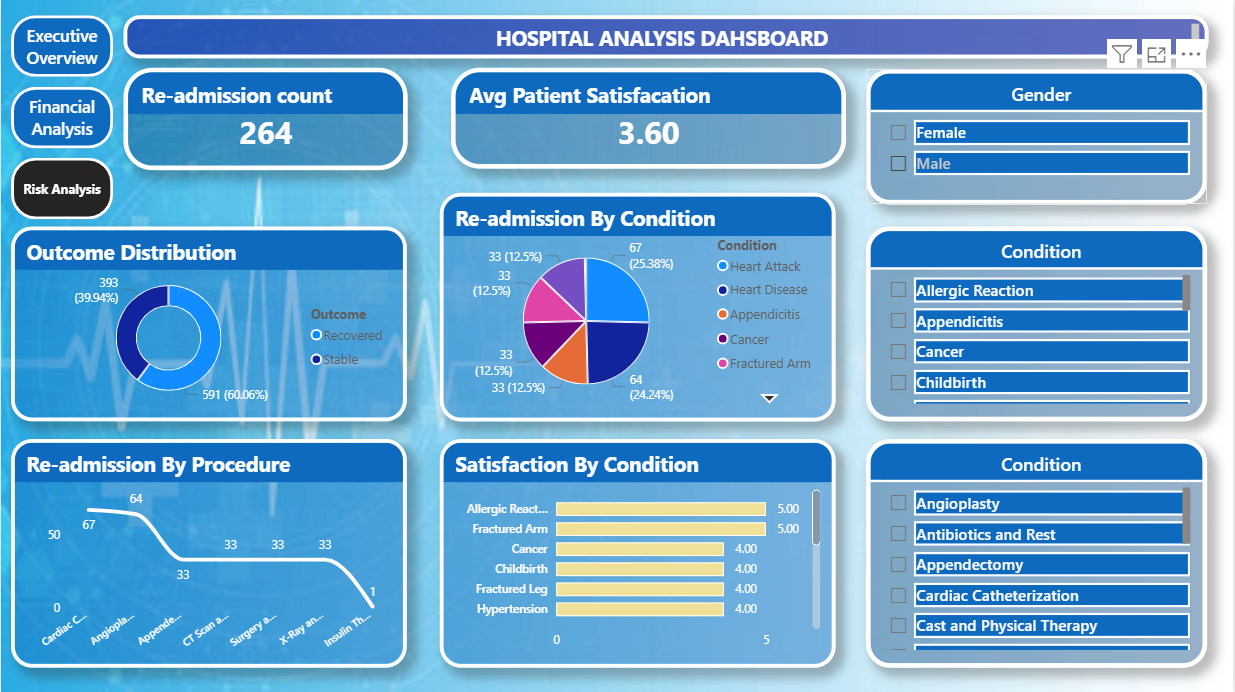

The page's visual inventory and layout, read from the dashboard file:
{"tool":"powerbi","page":{"name":"Risk Analysis ","canvas":[1280,720],"ordinal":2},"visuals":[{"type":"textbox","box":[126.7,16.9,1126.8,44.6],"z":0},{"type":"card","title":"Re-admission count","fields":{"Values":["hospital data analysis.Readmission Count"]},"box":[126.7,71.2,295.6,106.2],"z":1000},{"type":"card","title":"Avg Patient Satisfacation","fields":{"Values":["Avg(hospital data analysis.Satisfaction)"]},"box":[468,72,410.4,105.1],"z":2000},{"type":"barChart","title":"Satisfaction By Condition","fields":{"Category":["hospital data analysis.Condition"],"Y":["Avg(hospital data analysis.Satisfaction)"]},"box":[456,457.2,411.4,237.7],"z":3000},{"type":"pieChart","title":"Re-admission By Condition","fields":{"Category":["hospital data analysis.Condition"],"Y":["hospital data analysis.Readmission Count"]},"box":[456,201.5,411.4,237.7],"z":4000},{"type":"donutChart","title":"Outcome Distribution","fields":{"Y":["hospital data analysis.Total Patients"],"Category":["hospital data analysis.Outcome"]},"box":[10.9,236.5,411.4,202.7],"z":5000},{"type":"pageNavigator","box":[10.9,16.9,106.2,213.5],"z":6000},{"type":"lineChart","title":"Re-admission By Procedure","fields":{"Category":["hospital data analysis.Procedure"],"Y":["hospital data analysis.Readmission Count"]},"box":[10.9,457.2,411.4,237.7],"z":7000},{"type":"slicer","title":"Gender","fields":{"Values":["hospital data analysis.Gender"]},"box":[898.8,72.4,354.7,141.2],"z":8000},{"type":"slicer","title":"Condition","fields":{"Values":["hospital data analysis.Condition"]},"box":[898.8,236.5,354.7,202.7],"z":9000},{"type":"slicer","title":"Condition","fields":{"Values":["hospital data analysis.Procedure"]},"box":[898.8,457.2,354.7,237.7],"z":10000}]}

Visuals, with their boxes in screenshot pixels (x1, y1, x2, y2), scaled from the page's 1280x720 canvas onto the 1235x692 screenshot:
textbox: x1=122 y1=16 x2=1209 y2=59
"Re-admission count" card: x1=122 y1=68 x2=407 y2=171
"Avg Patient Satisfacation" card: x1=452 y1=69 x2=848 y2=170
"Satisfaction By Condition" barChart: x1=440 y1=439 x2=837 y2=668
"Re-admission By Condition" pieChart: x1=440 y1=194 x2=837 y2=422
"Outcome Distribution" donutChart: x1=11 y1=227 x2=407 y2=422
pageNavigator: x1=11 y1=16 x2=113 y2=221
"Re-admission By Procedure" lineChart: x1=11 y1=439 x2=407 y2=668
"Gender" slicer: x1=867 y1=70 x2=1209 y2=205
"Condition" slicer: x1=867 y1=227 x2=1209 y2=422
"Condition" slicer: x1=867 y1=439 x2=1209 y2=668
